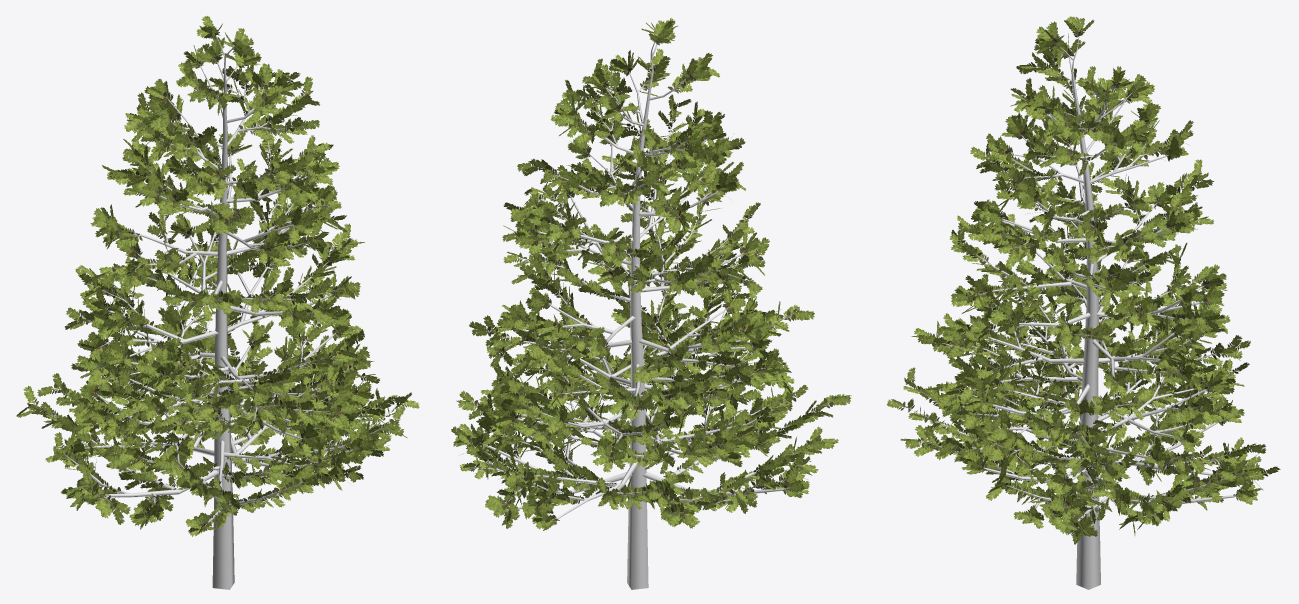
File: gtree3.fbx
3 renders of one model, left to right at view 1: azimuth 30°, elevation 25°; view 2: azimuth 150°, elevation 25°; view 3: azimuth 270°, elevation 25°, orthographic. The views are drawn at different scales.
Visible parts, largest first — view 1: leaves.001, tree.001; view 2: leaves.001, tree.001; view 3: leaves.001, tree.001.
Boxes of the visible parts, x1=… form: leaves.001: x1=16, y1=16, x2=419, y2=536; tree.001: x1=43, y1=35, x2=393, y2=589; leaves.001: x1=451, y1=18, x2=851, y2=530; tree.001: x1=471, y1=41, x2=827, y2=589; leaves.001: x1=886, y1=16, x2=1280, y2=544; tree.001: x1=905, y1=36, x2=1258, y2=589.
Bounding box in the file's own units: 368 × 557 × 359.
2 materials, 1 textured.
